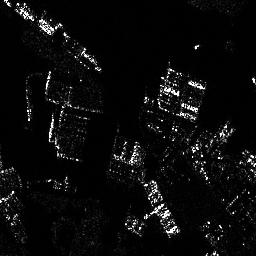ship: (22, 76, 33, 122)
